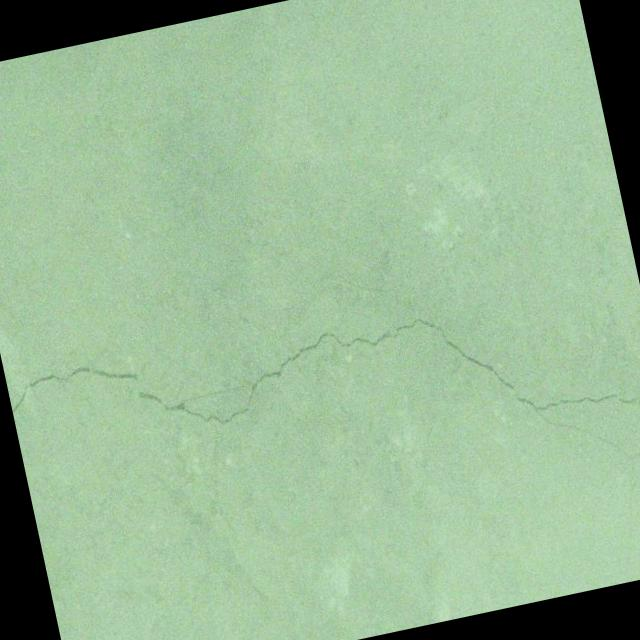crack: (6, 249, 640, 584), (261, 244, 430, 344)
